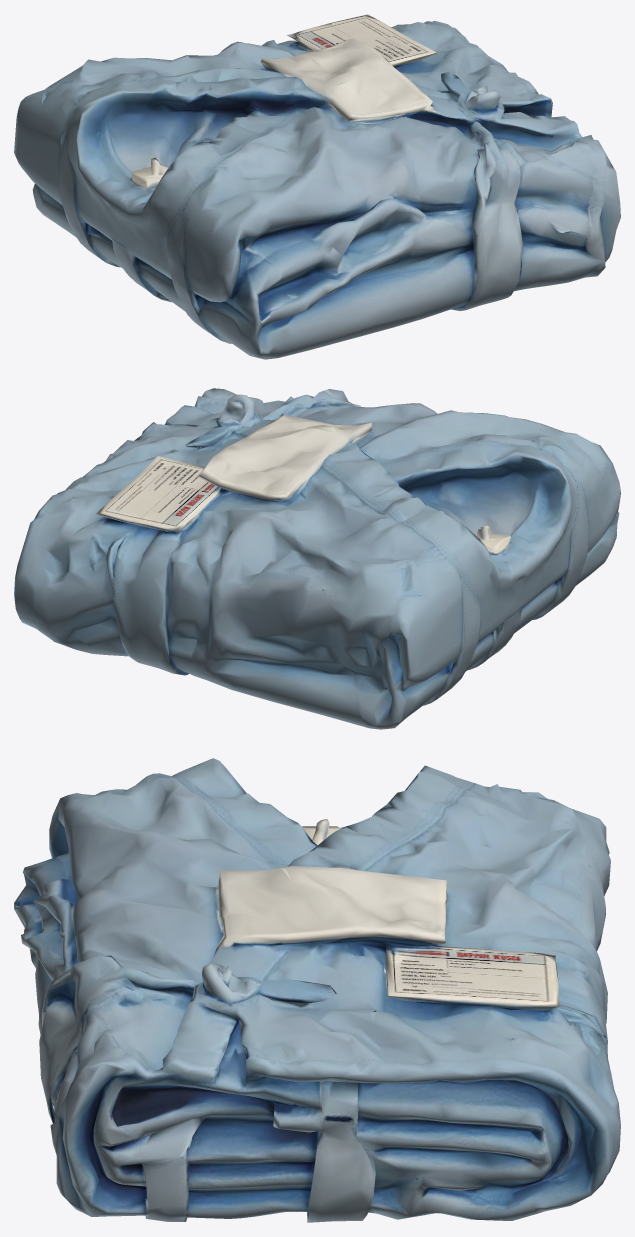
File: haru-hospital-gown.glb
3 renders of one model, top to bottom at view 1: azimuth 30°, elevation 25°; view 2: azimuth 150°, elevation 25°; view 3: azimuth 270°, elevation 25°, orthographic. The views are drawn at different scales.
Visible parts, largest first — view 1: tripo_node_97cf5af2-963e-41f6-add9-c7fb6d630920; view 2: tripo_node_97cf5af2-963e-41f6-add9-c7fb6d630920; view 3: tripo_node_97cf5af2-963e-41f6-add9-c7fb6d630920.
Boxes of the visible parts, x1,y1,x2,y2 form: tripo_node_97cf5af2-963e-41f6-add9-c7fb6d630920: [14, 14, 620, 359]; tripo_node_97cf5af2-963e-41f6-add9-c7fb6d630920: [14, 388, 620, 729]; tripo_node_97cf5af2-963e-41f6-add9-c7fb6d630920: [14, 758, 620, 1222].
Bounding box in the file's own units: 1 × 0.4566 × 0.9703.
1 material, 1 textured.
